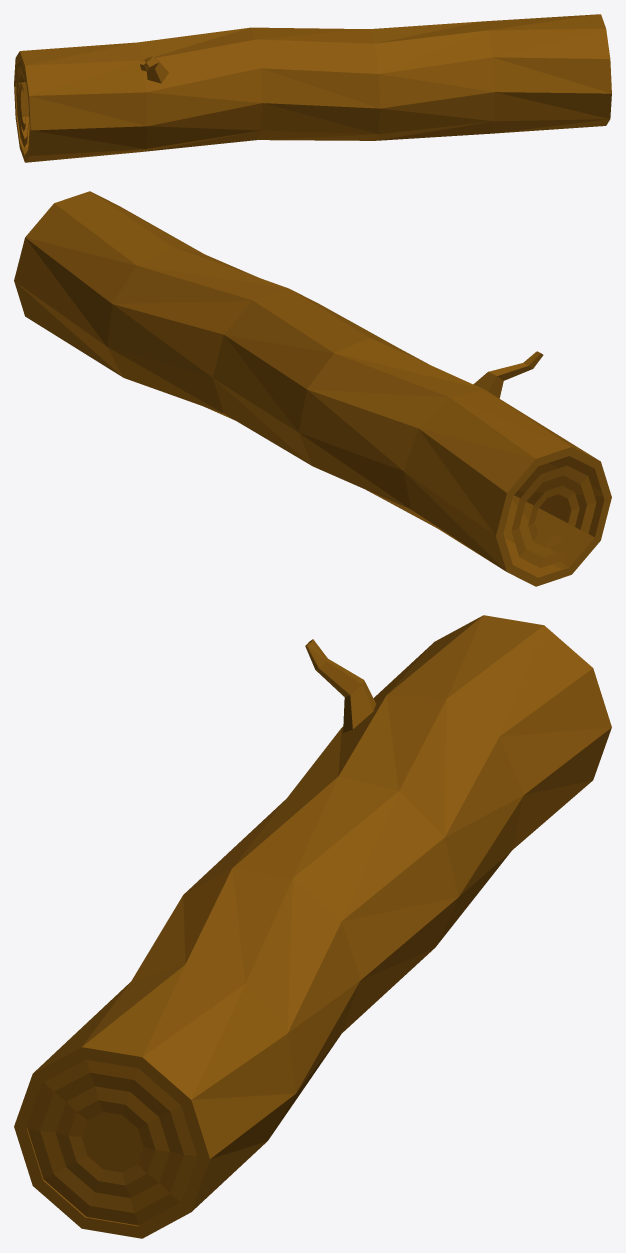
File: tronco_seco.glb
3 views of the same model, one above another, from view 1: azimuth 30°, elevation 25°; view 2: azimuth 150°, elevation 25°; view 3: azimuth 270°, elevation 25° (orthographic). The views are drawn at different scales.
Parts seen in each view (by area): view 1: Low_Poly_N.001; view 2: Low_Poly_N.001; view 3: Low_Poly_N.001.
Part boxes in pixels (x1,y1,x2,y2): Low_Poly_N.001: [14, 14, 611, 162]; Low_Poly_N.001: [14, 191, 611, 586]; Low_Poly_N.001: [14, 615, 611, 1238].
Size of the model in its own units: 93.03 by 21.36 by 50.61.
